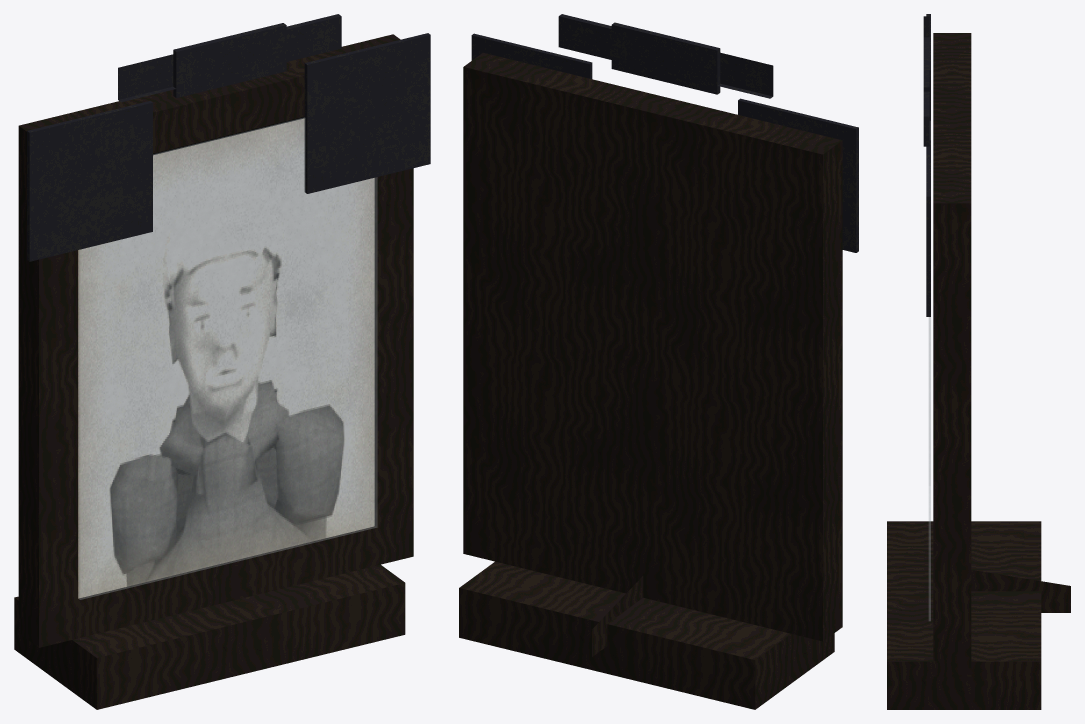
Rendered from iei_frame.glb.
3 views of the same model, side by side, from view 1: azimuth 30°, elevation 25°; view 2: azimuth 150°, elevation 25°; view 3: azimuth 270°, elevation 25° (orthographic). The views are drawn at different scales.
Parts seen in each view (by area): view 1: iei_frame; view 2: iei_frame; view 3: iei_frame.
Part boxes in pixels (<box>): iei_frame: <box>14,14,430,709</box>; iei_frame: <box>459,14,858,709</box>; iei_frame: <box>887,14,1070,709</box>.
Size of the model in its own units: 0.364 by 0.537 by 0.155.
Materials: 4 (4 with a texture image).
